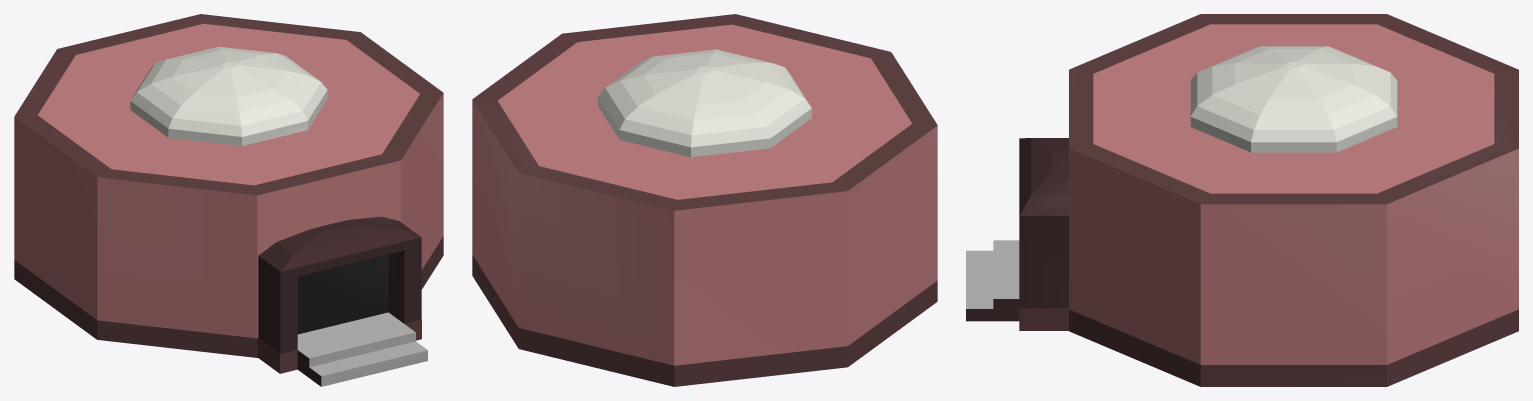
The model's file is predio_QG.fbx.
3 views of the same model, side by side, from view 1: azimuth 30°, elevation 25°; view 2: azimuth 150°, elevation 25°; view 3: azimuth 270°, elevation 25° (orthographic). The views are drawn at different scales.
Visible parts, largest first — view 1: predio_QG; view 2: predio_QG; view 3: predio_QG.
Part boxes in pixels (left/top/right/bottom): predio_QG: left=14, top=14, right=443, bottom=386; predio_QG: left=472, top=14, right=937, bottom=386; predio_QG: left=966, top=14, right=1518, bottom=386.
Bounding box in the file's own units: 1454 × 809 × 1785.
